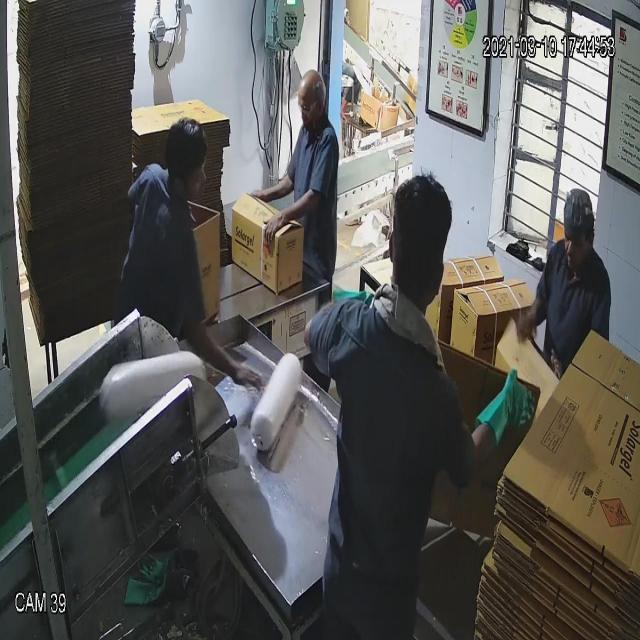Gloves: (70, 60, 502, 406)
